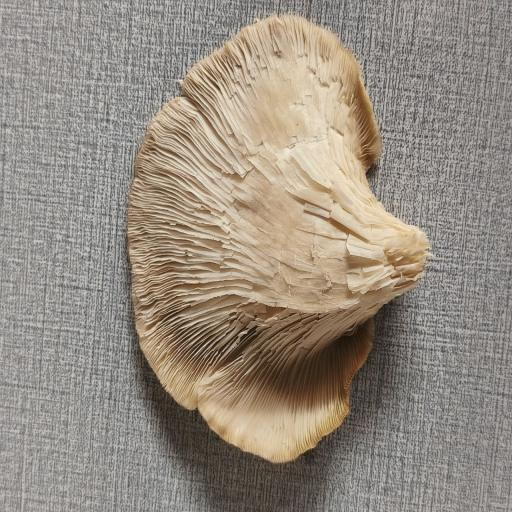White Oyster Mushroom: (120, 11, 438, 471)
